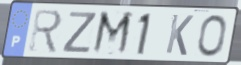1: (135, 11, 153, 56)
K: (163, 13, 195, 58)
M: (90, 10, 135, 58)
O: (196, 13, 228, 58)
R: (27, 8, 64, 55)
Z: (60, 11, 100, 55)
